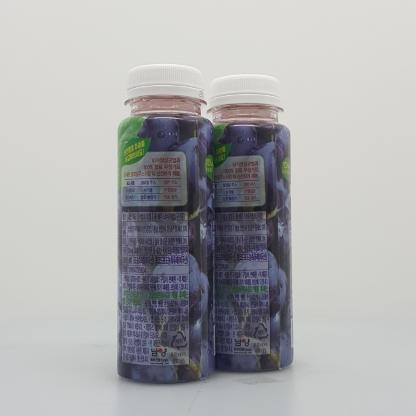---------210ML: (116, 63, 215, 383), (197, 74, 294, 372)
